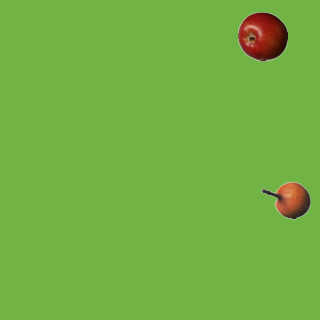Apple Braeburn: (237, 11, 287, 61)
Granadilla: (260, 175, 310, 225)
